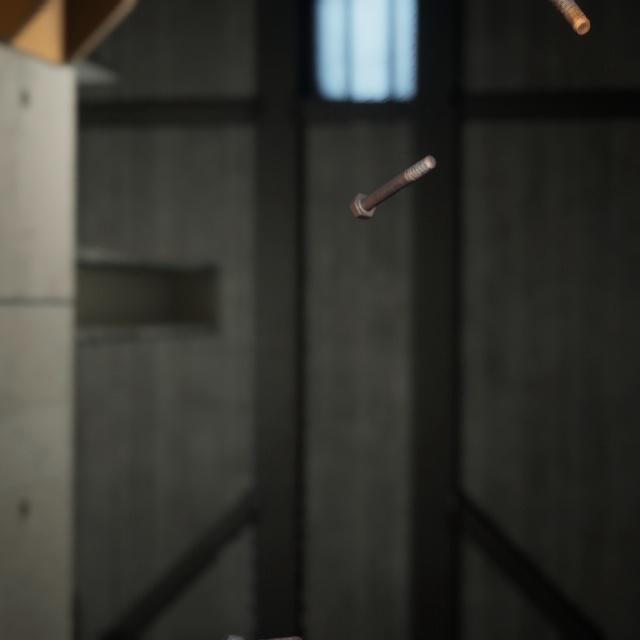bolt: (345, 137, 440, 211), (213, 606, 308, 640), (549, 0, 594, 33)
